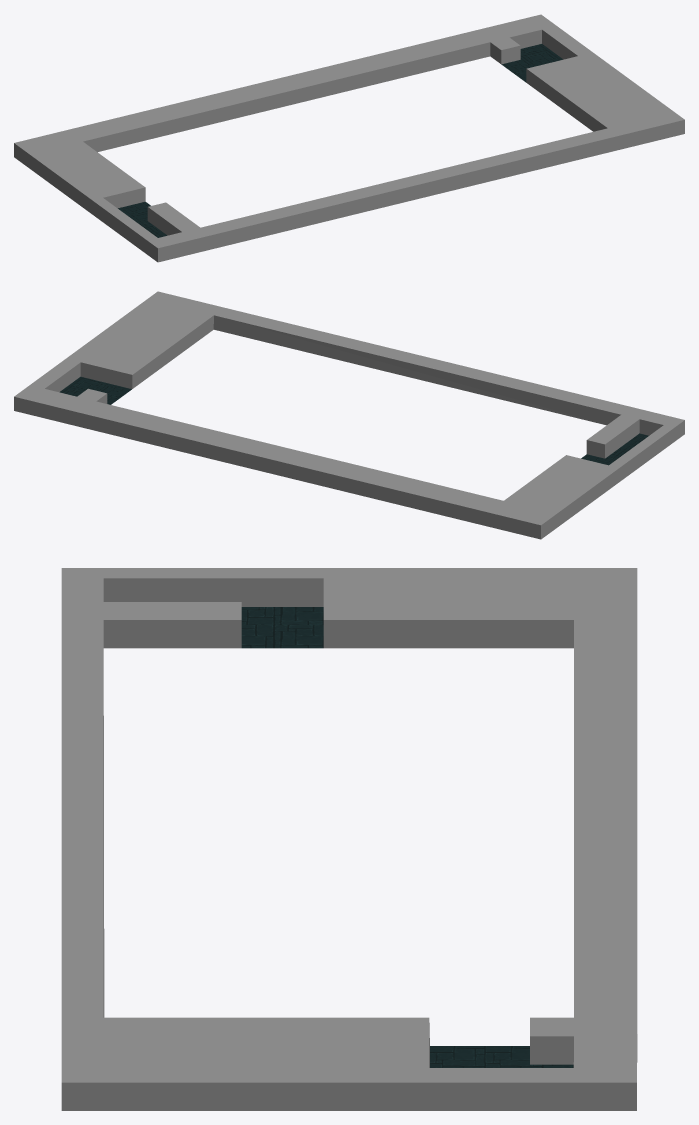
File: frame_1.FBX
3 renders of one model, top to bottom at view 1: azimuth 30°, elevation 25°; view 2: azimuth 150°, elevation 25°; view 3: azimuth 270°, elevation 25°, orthographic. The views are drawn at different scales.
Visible parts, largest first — view 1: frame_1; view 2: frame_1; view 3: frame_1.
Part boxes in pixels (x1,y1,x2,y2): frame_1: [14, 14, 684, 262]; frame_1: [14, 291, 684, 539]; frame_1: [61, 568, 637, 1110].
Size of the model in its own units: 155 by 4 by 73.42.
